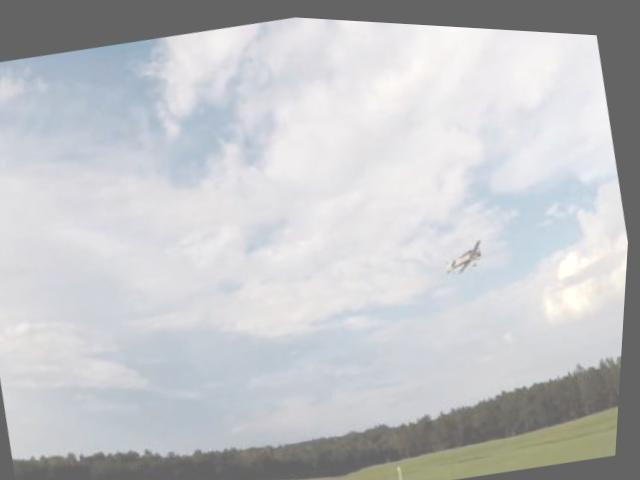uav: (439, 220, 499, 280)
